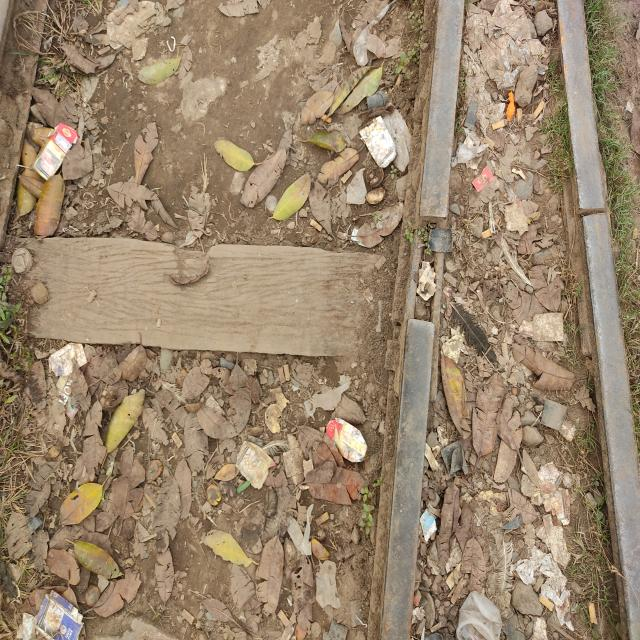defective: (394, 116, 640, 428)
